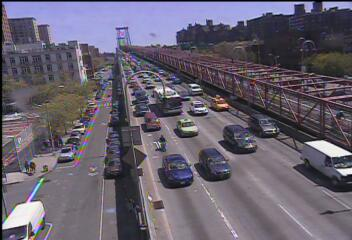neg: (286, 153, 333, 215), (298, 26, 334, 73), (242, 126, 273, 167), (204, 189, 228, 222), (60, 169, 84, 201), (18, 124, 38, 151), (200, 105, 220, 132), (30, 204, 45, 224), (49, 73, 63, 92), (144, 66, 158, 84), (67, 110, 80, 127), (120, 32, 133, 49), (192, 17, 205, 34), (85, 94, 97, 110), (117, 104, 129, 120), (94, 76, 100, 83), (93, 85, 98, 93), (99, 62, 103, 67), (96, 70, 99, 75)
